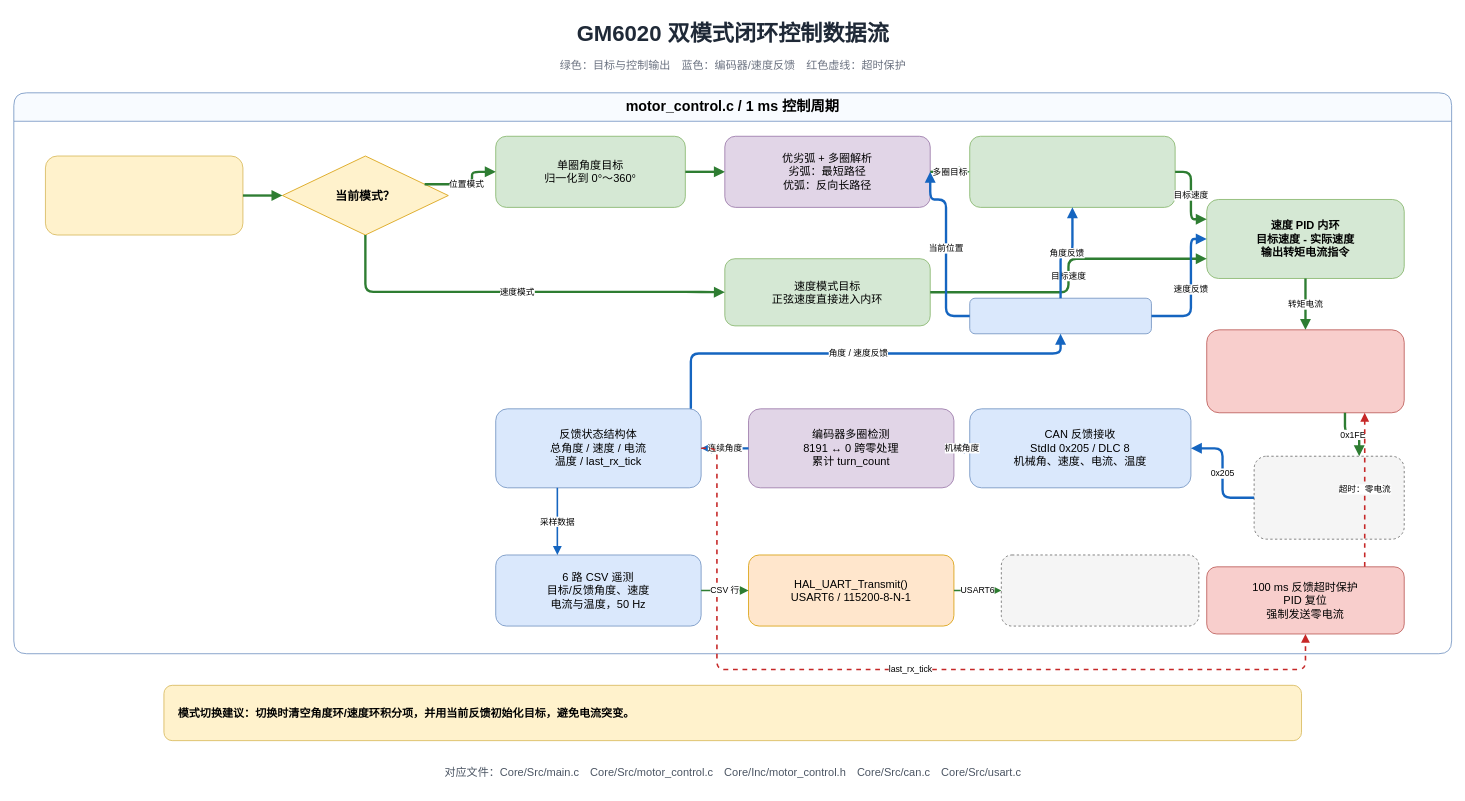
Some shapes in this 1465 by 801 pixel diagram are drawn without their labels. Here are the shapes that lost their labels. From the top down, the centre of each, then its label:
At (x=1072, y=171): "角度 PID 外环 多圈角度误差 输出目标速度 ±100 rpm".
At (x=144, y=195): "正弦目标发生器 按模式输出角度或速度 幅值 / 周期可配置".
At (x=1060, y=315): "反馈分配 角度 / 速度".
At (x=1305, y=371): "电流限幅 + CAN 打包 ±8192，ID 1 → DATA[0:1] 标准帧 0x1FE".
At (x=1328, y=497): "GM6020（ID=1） 内置电调执行电流指令 约 1 kHz 发送反馈".
At (x=1100, y=590): "串口调试/绘图软件 按逗号解析一行 6 个数".
